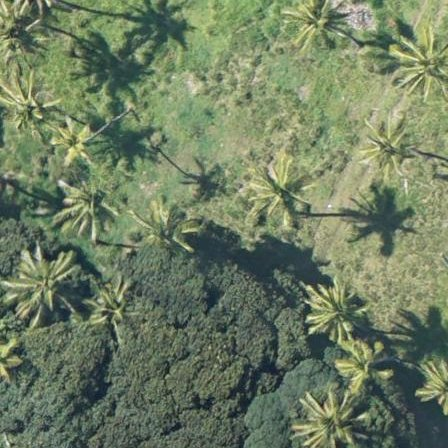palm_tree: (6, 237, 83, 319), (241, 156, 314, 224), (294, 392, 362, 448), (389, 30, 448, 93), (58, 180, 120, 239), (1, 73, 55, 138), (304, 284, 362, 343), (334, 339, 396, 393), (82, 279, 142, 333), (144, 199, 200, 255), (360, 120, 413, 173), (290, 1, 348, 45), (48, 121, 100, 170), (1, 13, 43, 61), (1, 135, 3, 165)
